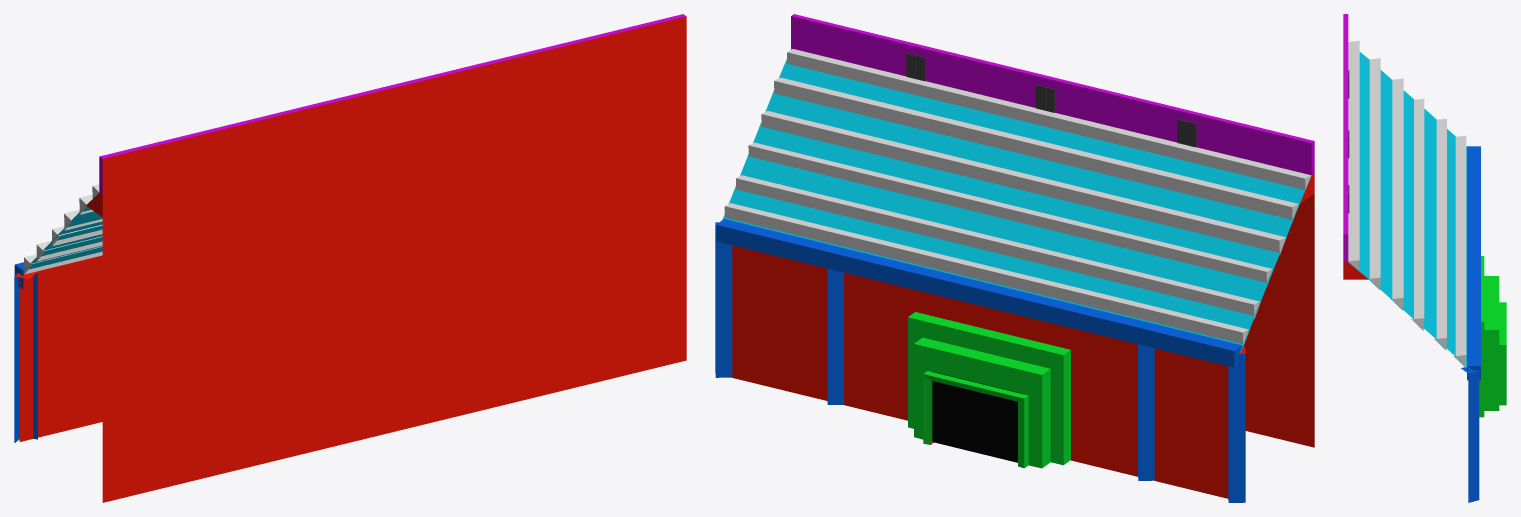
Rendered from lado.fbx.
The picture shows the model from 3 angles, left to right: view 1: azimuth 30°, elevation 25°; view 2: azimuth 150°, elevation 25°; view 3: azimuth 270°, elevation 25°; orthographic projection. The views are drawn at different scales.
Visible parts, largest first — view 1: Cube.001; view 2: Cube.001; view 3: Cube.001.
Part boxes in pixels (x1,y1,x2,y2): Cube.001: (14, 14, 686, 502); Cube.001: (715, 14, 1314, 502); Cube.001: (1343, 14, 1506, 502).
Size of the model in its own units: 962 by 530 by 295.
